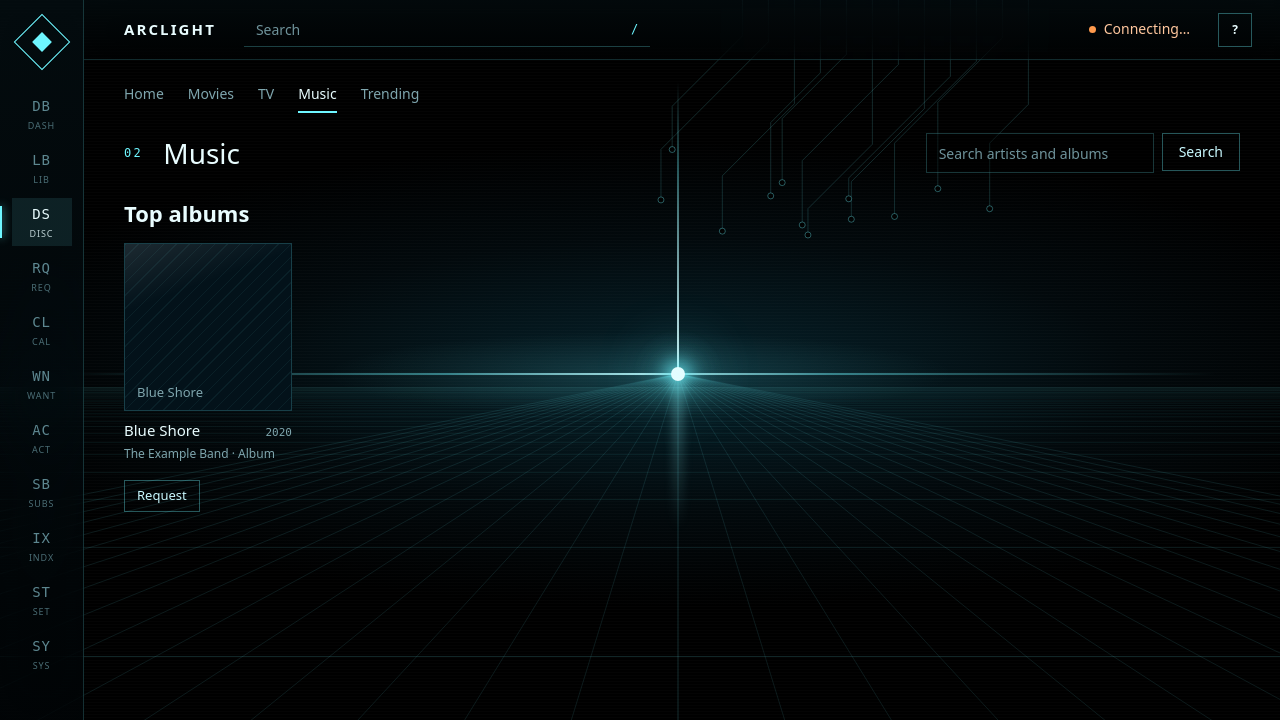
Test: music in Discover › requests an album after the confirm dialog and refreshes the card
Click the button with aria-label "Request Blue Shore" at point(162, 496), box x1=124 y1=480 x2=200 y2=512
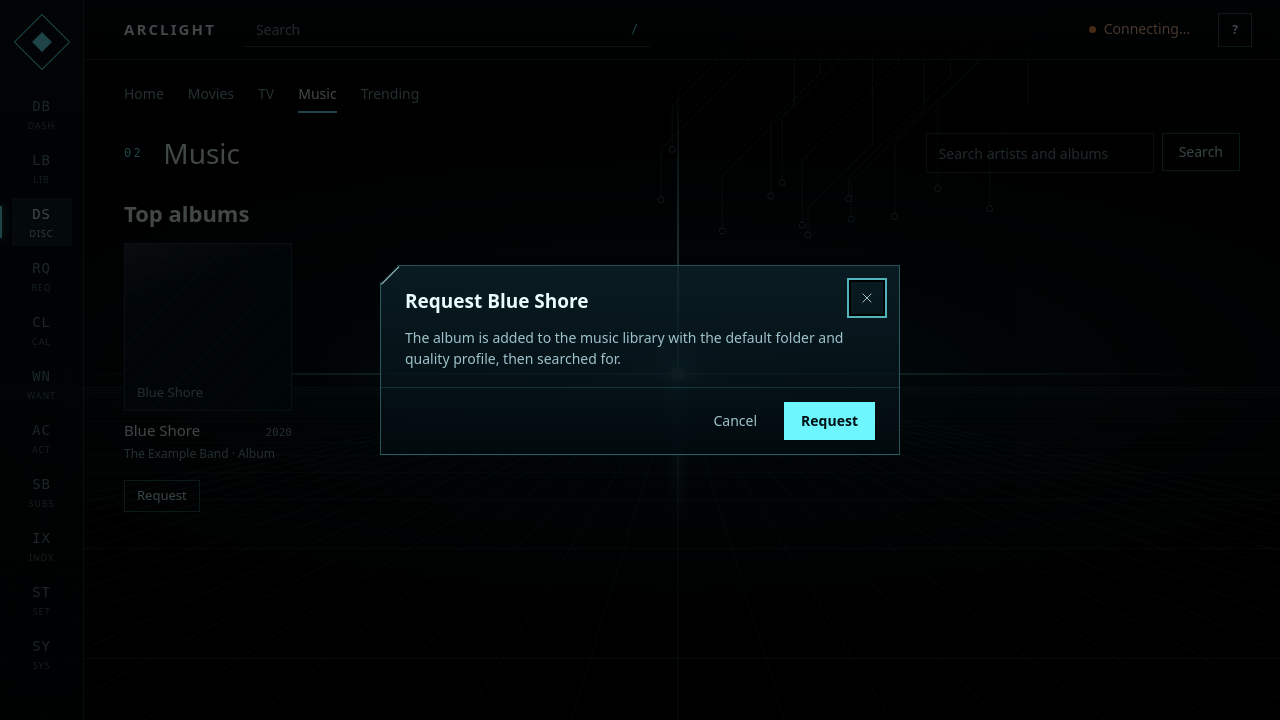
Click the button "Request" at point(830, 421), box x1=784 y1=402 x2=875 y2=440
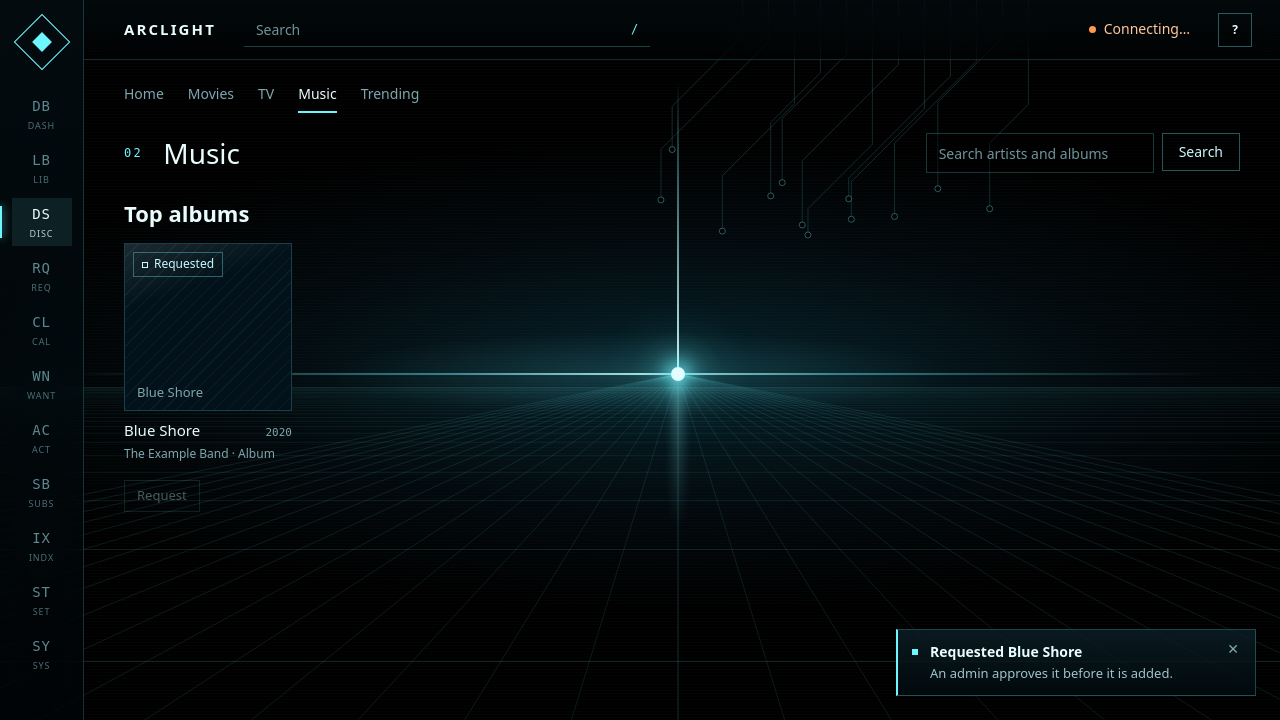
Expected: the dialog is gone
Expected: the text "Requested" is shown, x1=133 y1=252 x2=223 y2=277
Expected: the button "Request" is disabled, x1=124 y1=480 x2=200 y2=512
